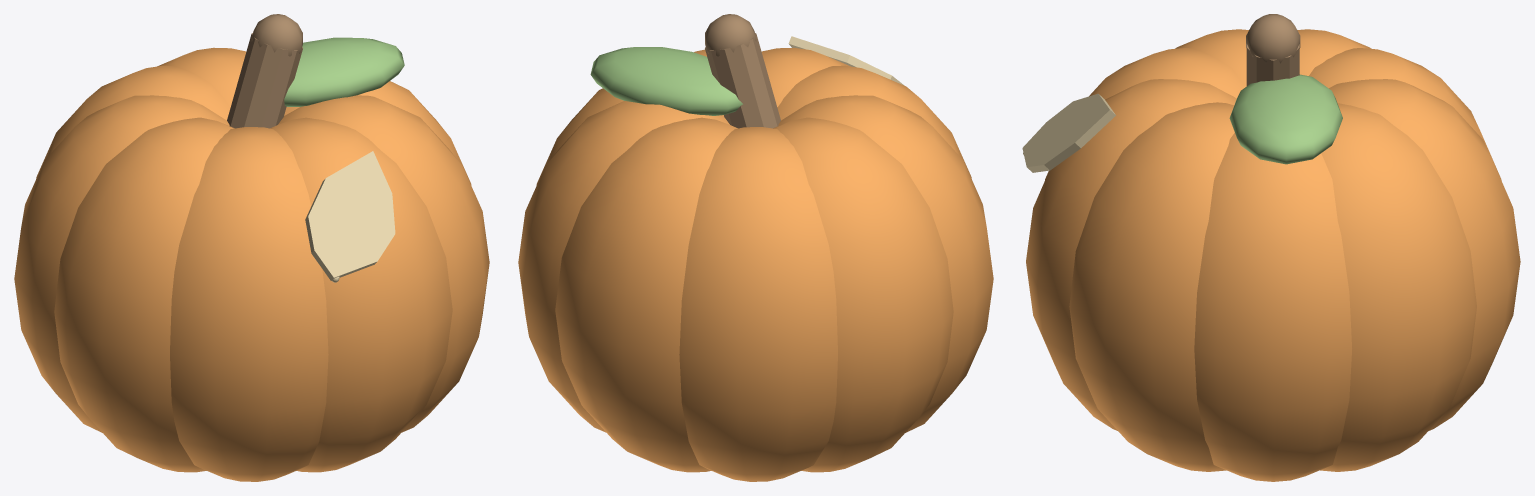
The model's file is secret-pumpkin-leaf.glb.
The picture shows the model from 3 angles, left to right: view 1: azimuth 30°, elevation 25°; view 2: azimuth 150°, elevation 25°; view 3: azimuth 270°, elevation 25°; orthographic projection. The views are drawn at different scales.
Parts seen in each view (by area): view 1: secret-pumpkin-leaf; view 2: secret-pumpkin-leaf; view 3: secret-pumpkin-leaf.
Part boxes in pixels (x1,y1,x2,y2): secret-pumpkin-leaf: [14, 14, 489, 481]; secret-pumpkin-leaf: [518, 14, 993, 481]; secret-pumpkin-leaf: [1022, 14, 1520, 481].
Size of the model in its own units: 0.5671 by 0.537 by 0.5705.
